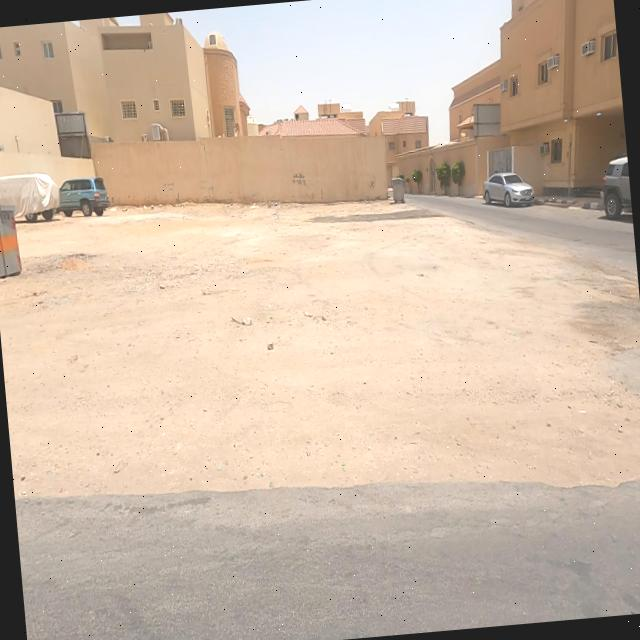Graffiti: (291, 170, 308, 188), (369, 174, 377, 190)
